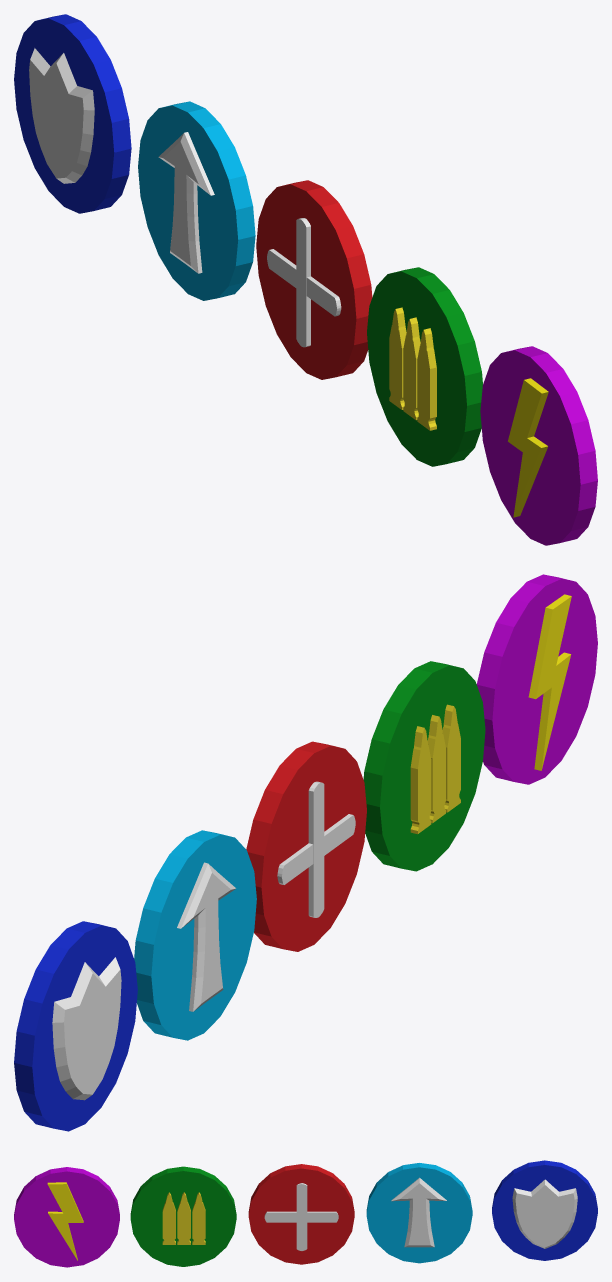
Rendered from bonus1.fbx.
3 renders of one model, top to bottom at view 1: azimuth 30°, elevation 25°; view 2: azimuth 150°, elevation 25°; view 3: azimuth 270°, elevation 25°, orthographic. The views are drawn at different scales.
Parts seen in each view (by area): view 1: Cylinder, Cylinder.001, Cylinder.002, Cylinder.003, Cube.001; view 2: Cylinder.001, Cylinder, Cylinder.003, Cylinder.002, Cube.001; view 3: Cube.001, Cylinder.003, Cylinder, Cylinder.001, Cylinder.002.
Part boxes in pixels (left/top/right/bottom): Cylinder: left=138, top=101, right=255, bottom=300; Cylinder.001: left=14, top=14, right=131, bottom=213; Cylinder.002: left=480, top=346, right=597, bottom=545; Cylinder.003: left=367, top=267, right=482, bottom=466; Cube.001: left=256, top=180, right=372, bottom=379; Cylinder.001: left=14, top=921, right=137, bottom=1131; Cylinder: left=134, top=830, right=256, bottom=1040; Cylinder.003: left=363, top=661, right=485, bottom=871; Cylinder.002: left=476, top=574, right=597, bottom=784; Cube.001: left=246, top=741, right=366, bottom=951; Cube.001: left=248, top=1164, right=354, bottom=1264; Cylinder.003: left=130, top=1166, right=236, bottom=1266; Cylinder: left=366, top=1163, right=472, bottom=1263; Cylinder.001: left=492, top=1160, right=597, bottom=1260; Cylinder.002: left=14, top=1167, right=119, bottom=1267.
Bounding box in the file's own units: 53.81 × 207 × 1101.
